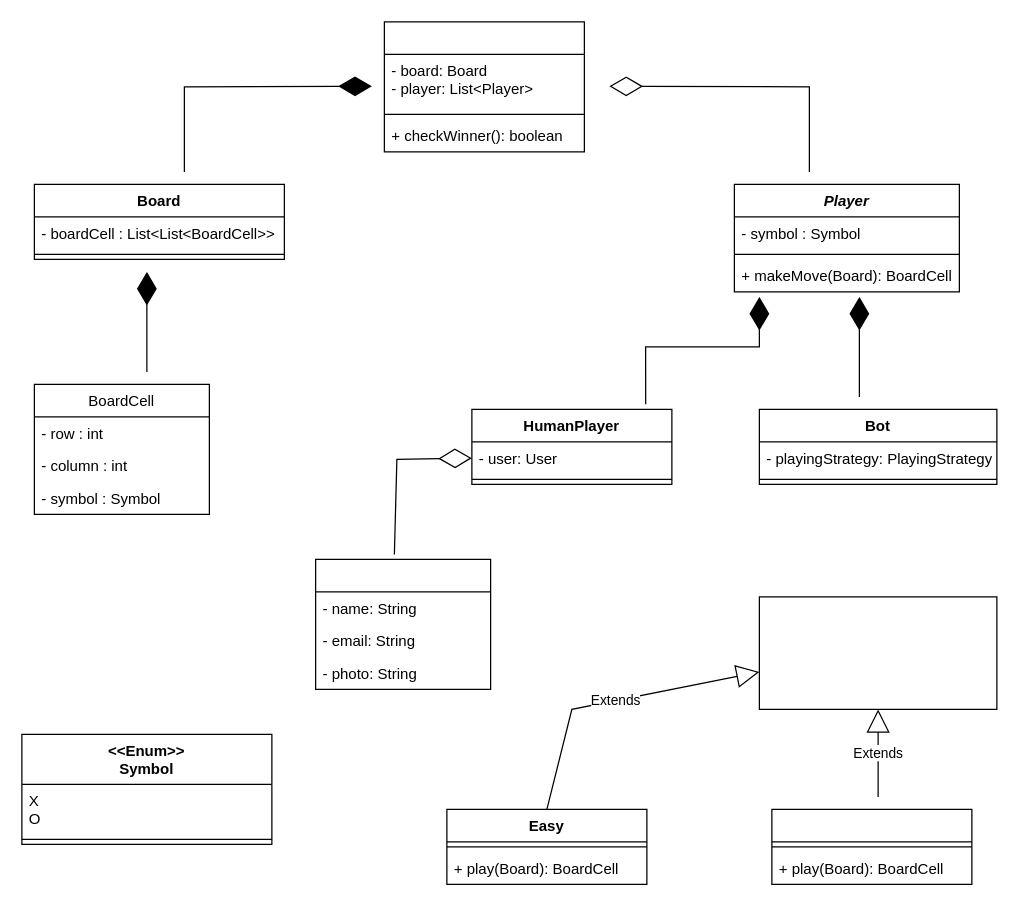
The diagram is 1019 pixels wide and 910 high, and some of its shapes have lost their labels. The shapes that lost their labels are listed below. From the top down, each one's box as (x1, y1, x2, y2) in pixels, then its label:
(383, 21, 584, 152): Game
(314, 558, 491, 689): User
(758, 596, 997, 709): <<Interface>> PlayingStrategy + play(Board): BoardCell
(771, 808, 972, 884): Medium
